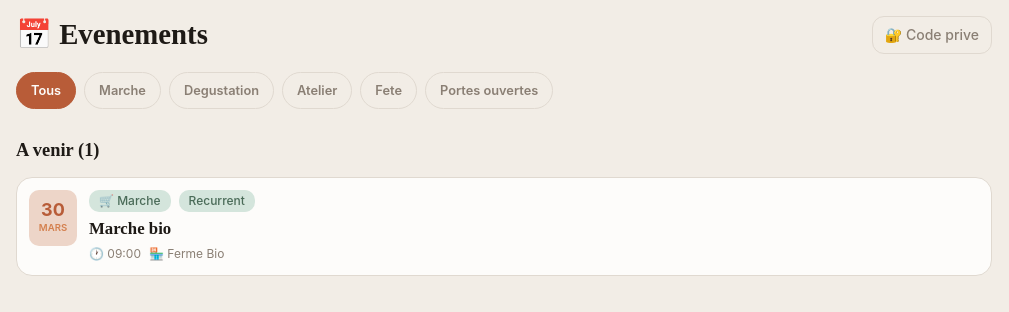
Test: EventsPageClient › filters by type
Click the button "Degustation": (221, 91) top-left (169, 72), bottom-right (274, 109)
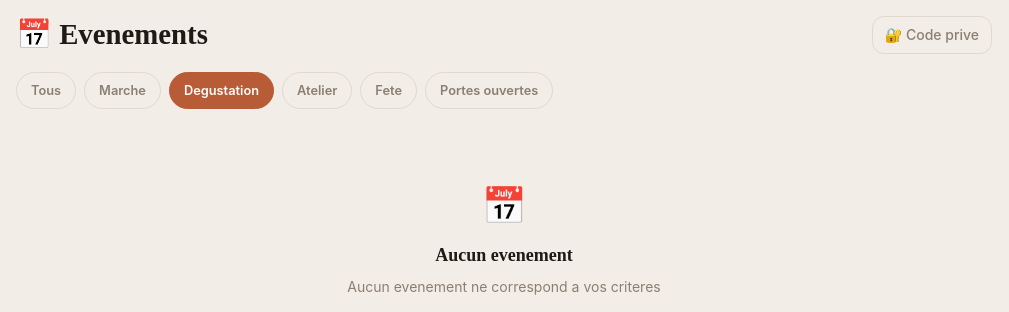
Check: the link "Marche bio" is gone
